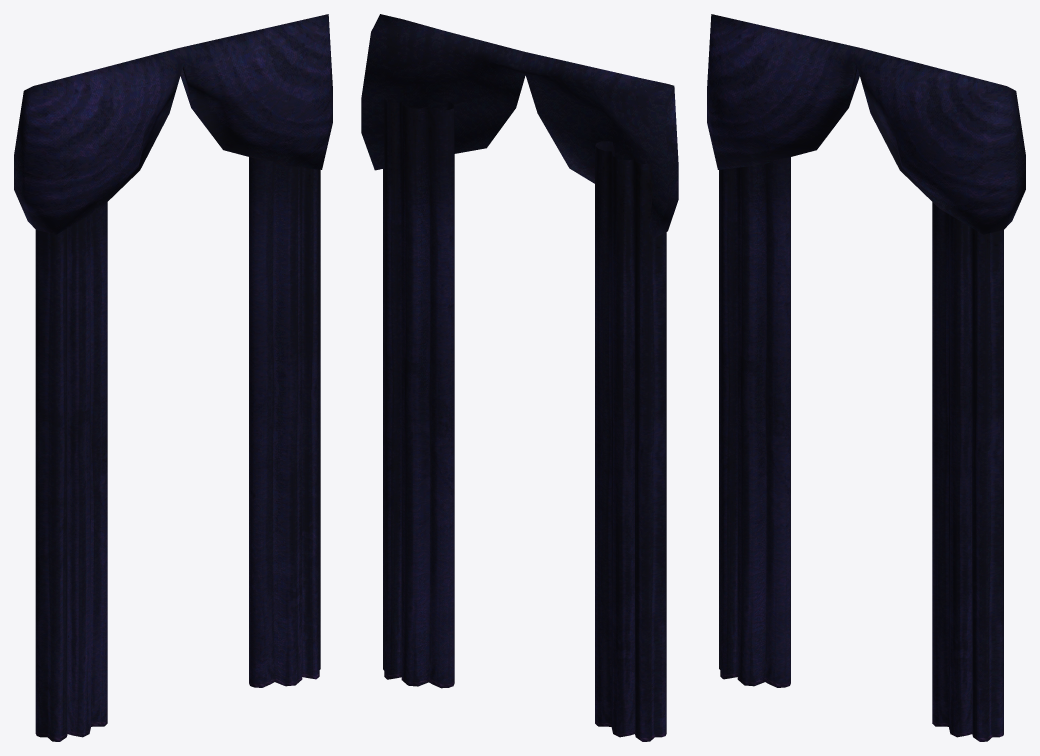
Rendered from 42_curtain02_blue_long.dae.
3 views of the same model, side by side, from view 1: azimuth 30°, elevation 25°; view 2: azimuth 150°, elevation 25°; view 3: azimuth 330°, elevation 25° (orthographic).
Parts seen in each view (by area): view 1: polySurface191; view 2: polySurface191; view 3: polySurface191.
Boxes of the visible parts, x1,y1,x2,y2 form: polySurface191: (14,14,332,741); polySurface191: (361,14,678,741); polySurface191: (707,14,1025,741).
Size of what is drawn, in the model's own units: 2.5 by 5.08 by 0.4673.
